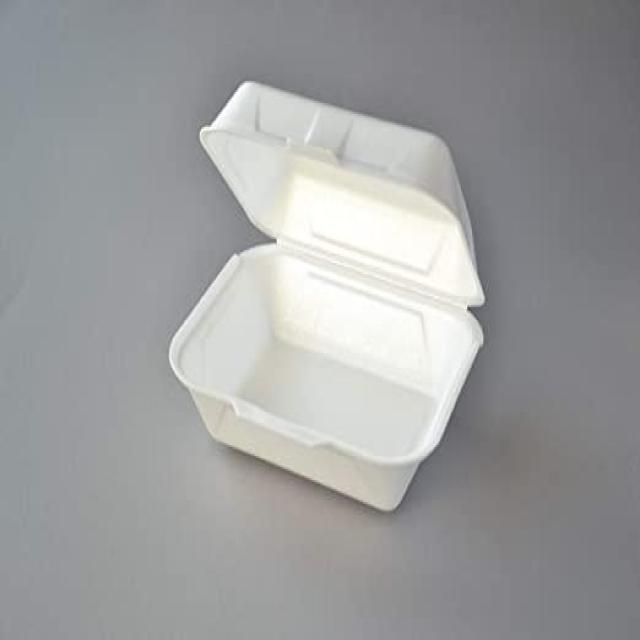styrofoam: (167, 77, 486, 513)
